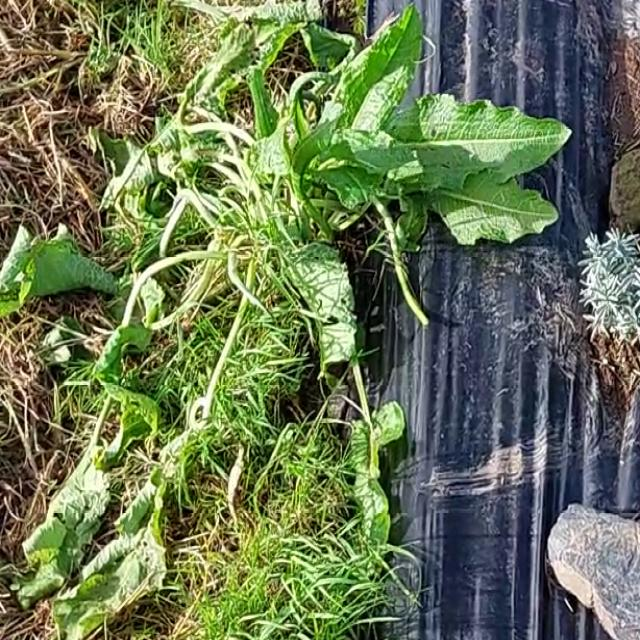organic waste: (168, 10, 552, 257), (1, 345, 228, 627), (0, 198, 254, 351)
